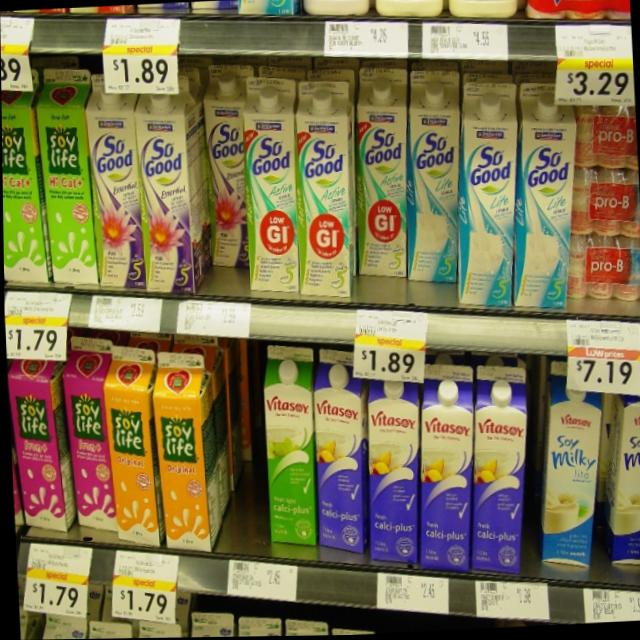q262: (450, 107, 517, 310), (404, 101, 466, 302), (513, 123, 579, 310)
